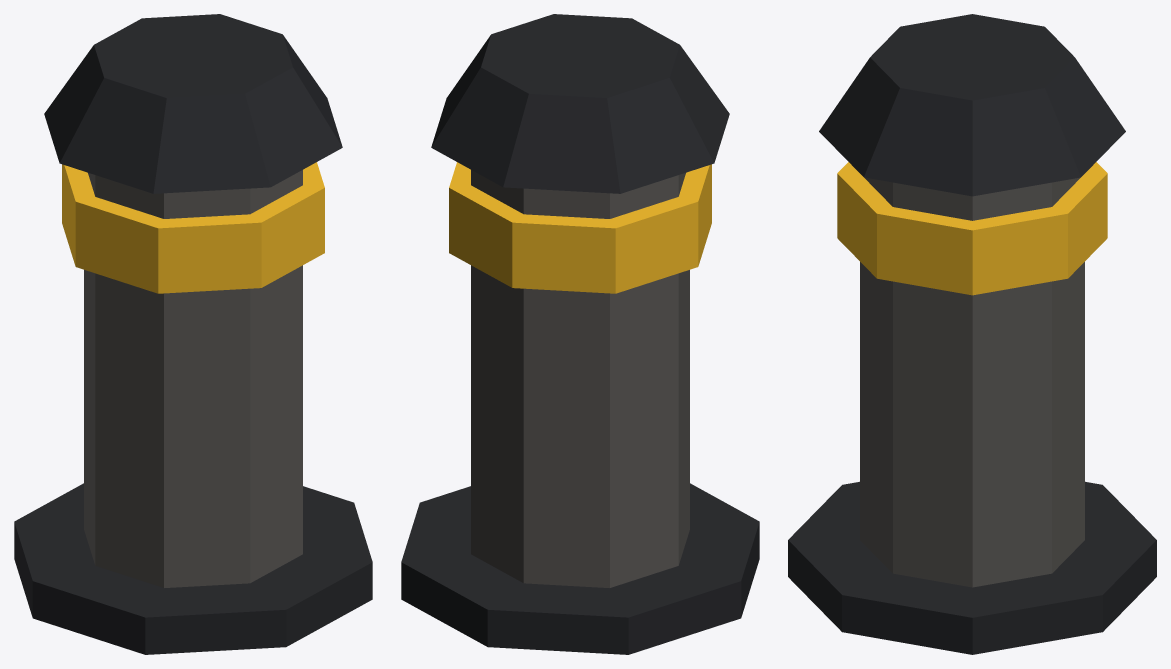
File: industrial_stack.glb
The picture shows the model from 3 angles, left to right: view 1: azimuth 30°, elevation 25°; view 2: azimuth 150°, elevation 25°; view 3: azimuth 270°, elevation 25°; orthographic projection.
Size of the model in its own units: 0.18 by 0.28 by 0.18.
